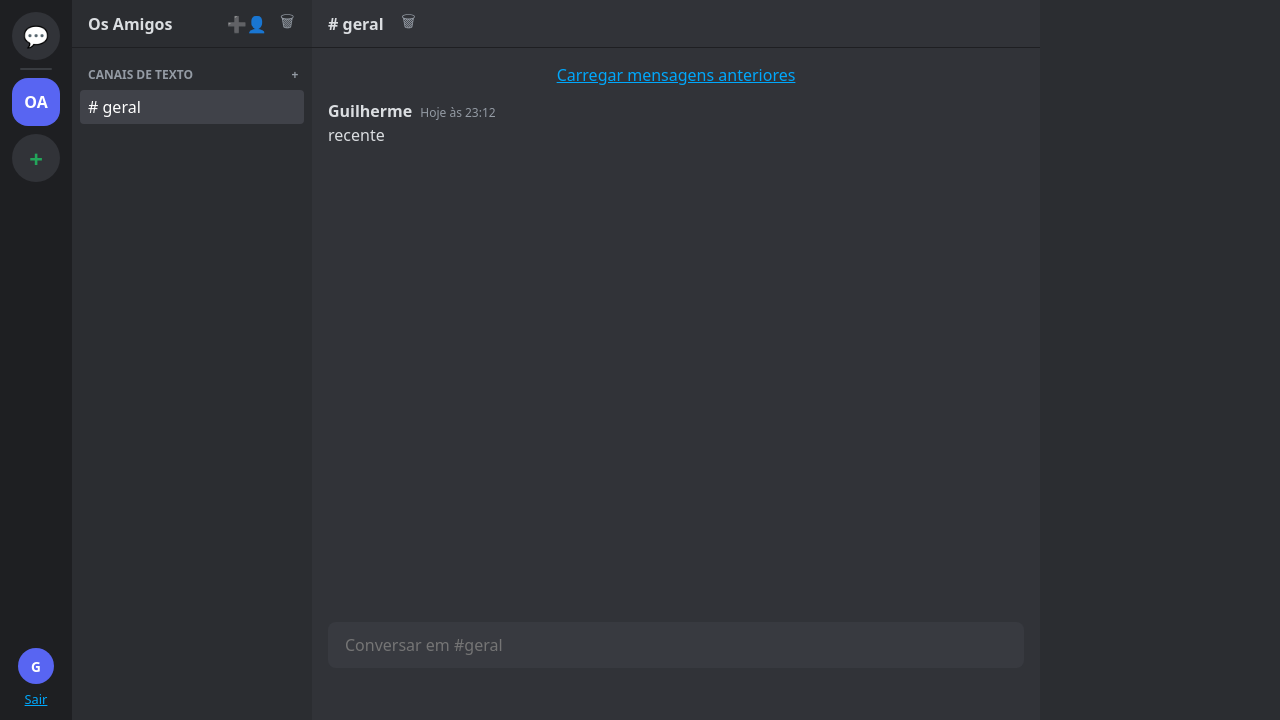
Test: histórico › carrega páginas anteriores pelo cursor, sem duplicar
Click the button "Carregar mensagens anteriores". click: [676, 75]
box: x1=557 y1=64 x2=795 y2=86
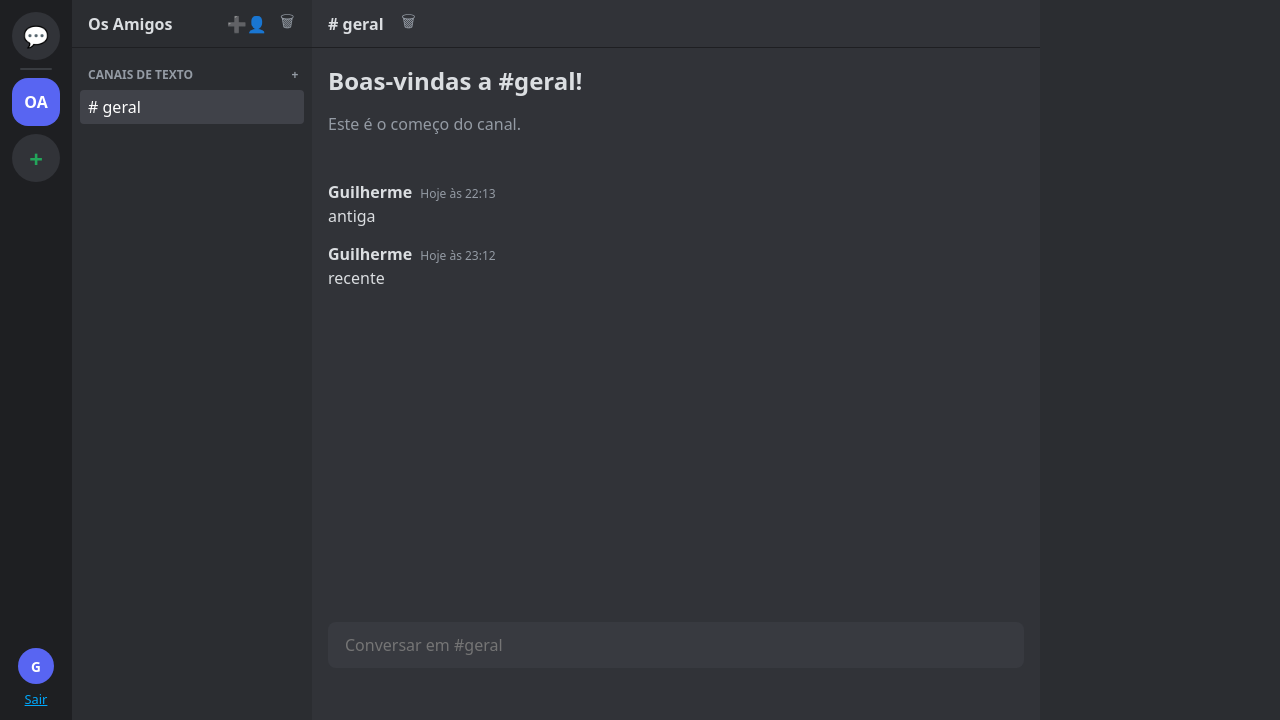
Result: the text "Este é o começo do canal." is shown at x1=328 y1=113 x2=521 y2=135
